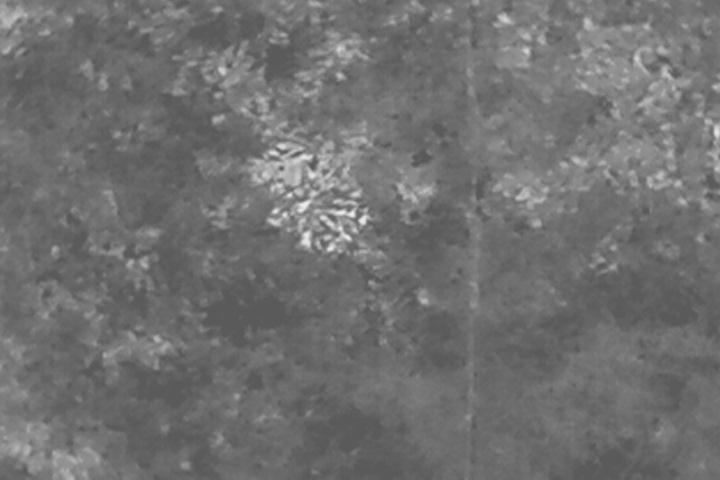landmine: (254, 145, 313, 196)
